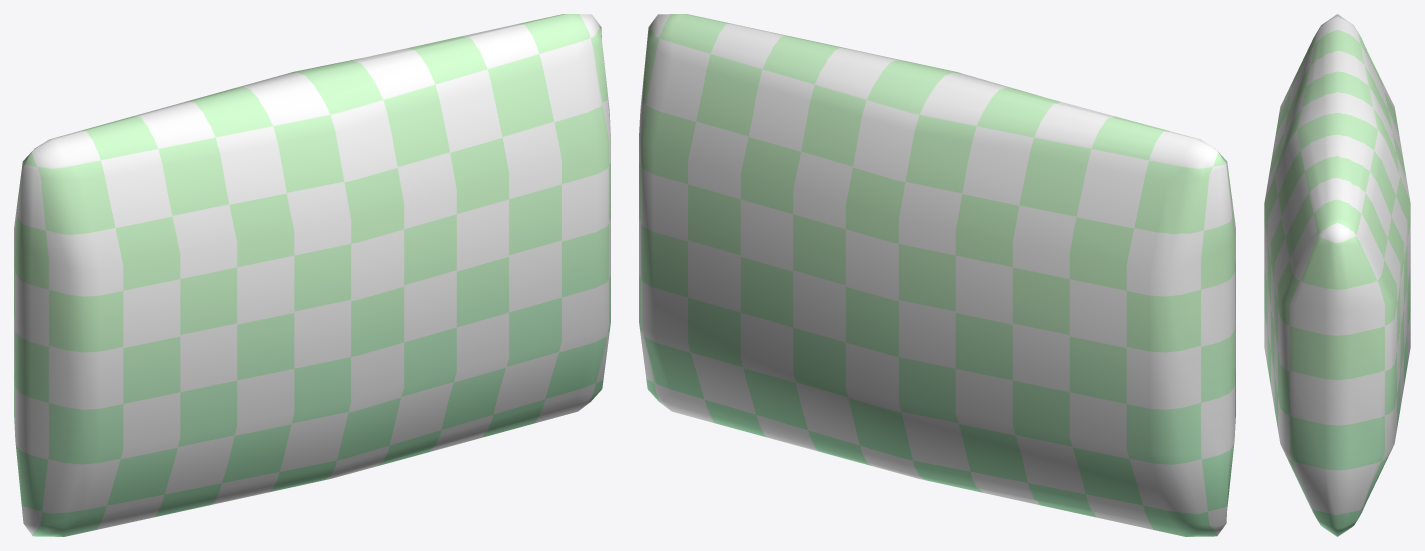
Rendered from Pillow_Apple.fbx.
The picture shows the model from 3 angles, left to right: view 1: azimuth 30°, elevation 25°; view 2: azimuth 150°, elevation 25°; view 3: azimuth 270°, elevation 25°; orthographic projection. The views are drawn at different scales.
Parts seen in each view (by area): view 1: Pillow_Apple; view 2: Pillow_Apple; view 3: Pillow_Apple.
Part boxes in pixels (x1,y1,x2,y2): Pillow_Apple: (14, 14, 610, 536); Pillow_Apple: (639, 14, 1235, 536); Pillow_Apple: (1264, 14, 1410, 536).
Size of the model in its own units: 981 by 646 by 267.
1 material, 1 textured.
